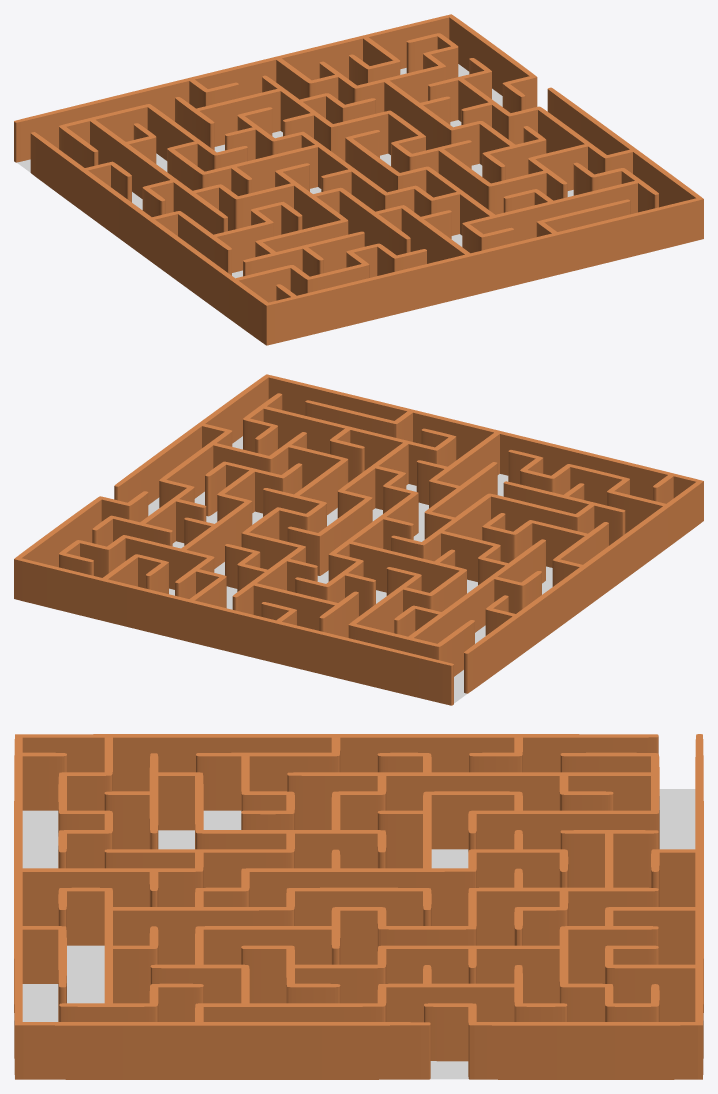
File: labyrinth.fbx
3 views of the same model, one above another, from view 1: azimuth 30°, elevation 25°; view 2: azimuth 150°, elevation 25°; view 3: azimuth 270°, elevation 25° (orthographic). The views are drawn at different scales.
Parts seen in each view (by area): view 1: lbr, Plane; view 2: lbr, Plane; view 3: lbr, Plane.
Part boxes in pixels (<box>): lbr: <box>14,14,703,345</box>; Plane: <box>17,64,573,278</box>; lbr: <box>14,374,703,705</box>; Plane: <box>148,436,552,703</box>; lbr: <box>14,734,703,1079</box>; Plane: <box>14,789,695,1079</box>.
Size of the model in its own units: 346 by 30 by 345.
